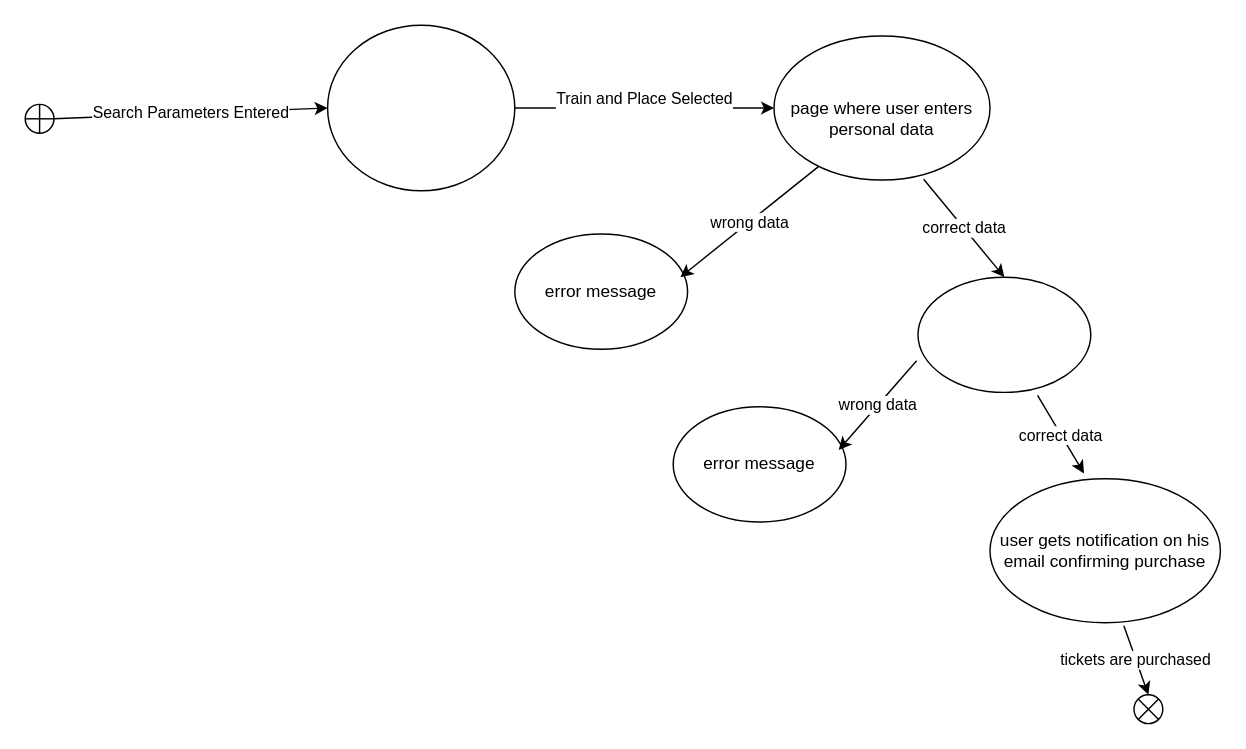
Some shapes in this 1246 by 749 pixel diagram are drawn without their labels. The shapes that lost their labels are listed below. From the top down, each one's centre as x and y in pixels, then its label:
At (x=420, y=107): "Trains Found".
At (x=1004, y=334): "payment page where user enters card information".
